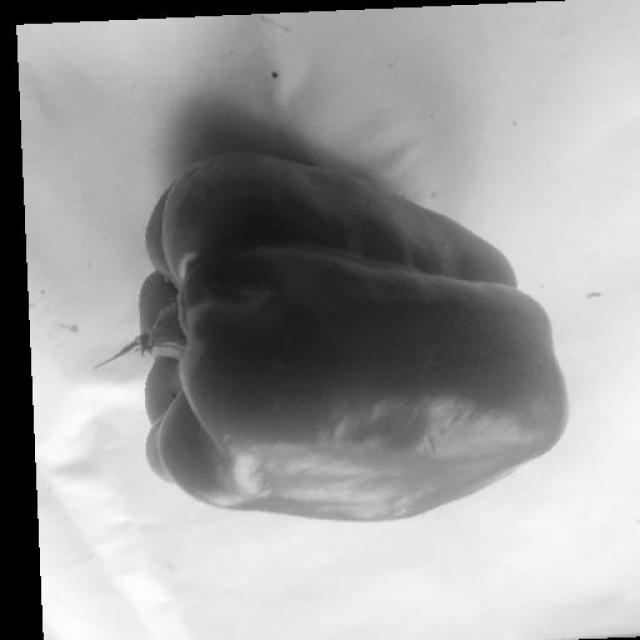Fresh_Capsicum: (161, 180, 578, 508)
